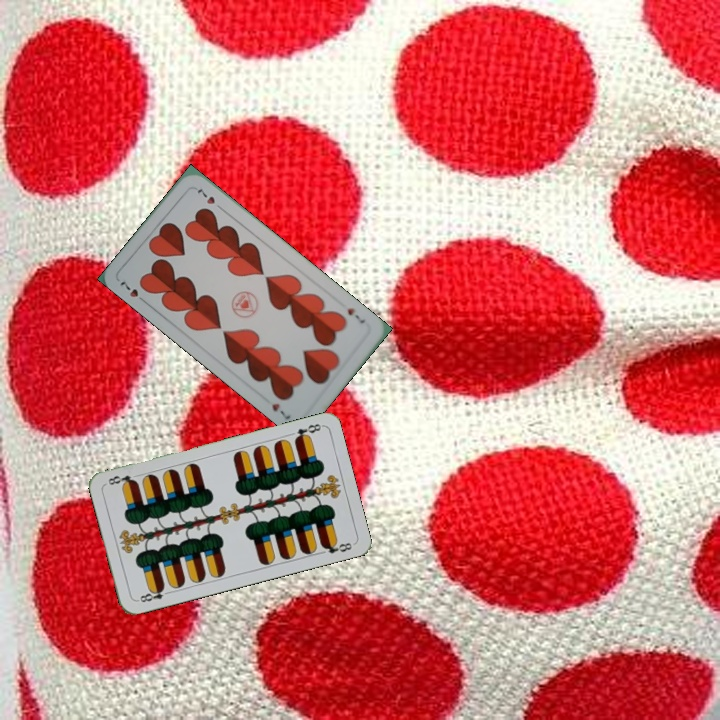E8: (284, 419, 324, 444), (133, 583, 173, 605)
H7: (116, 277, 149, 306), (343, 304, 368, 326)
